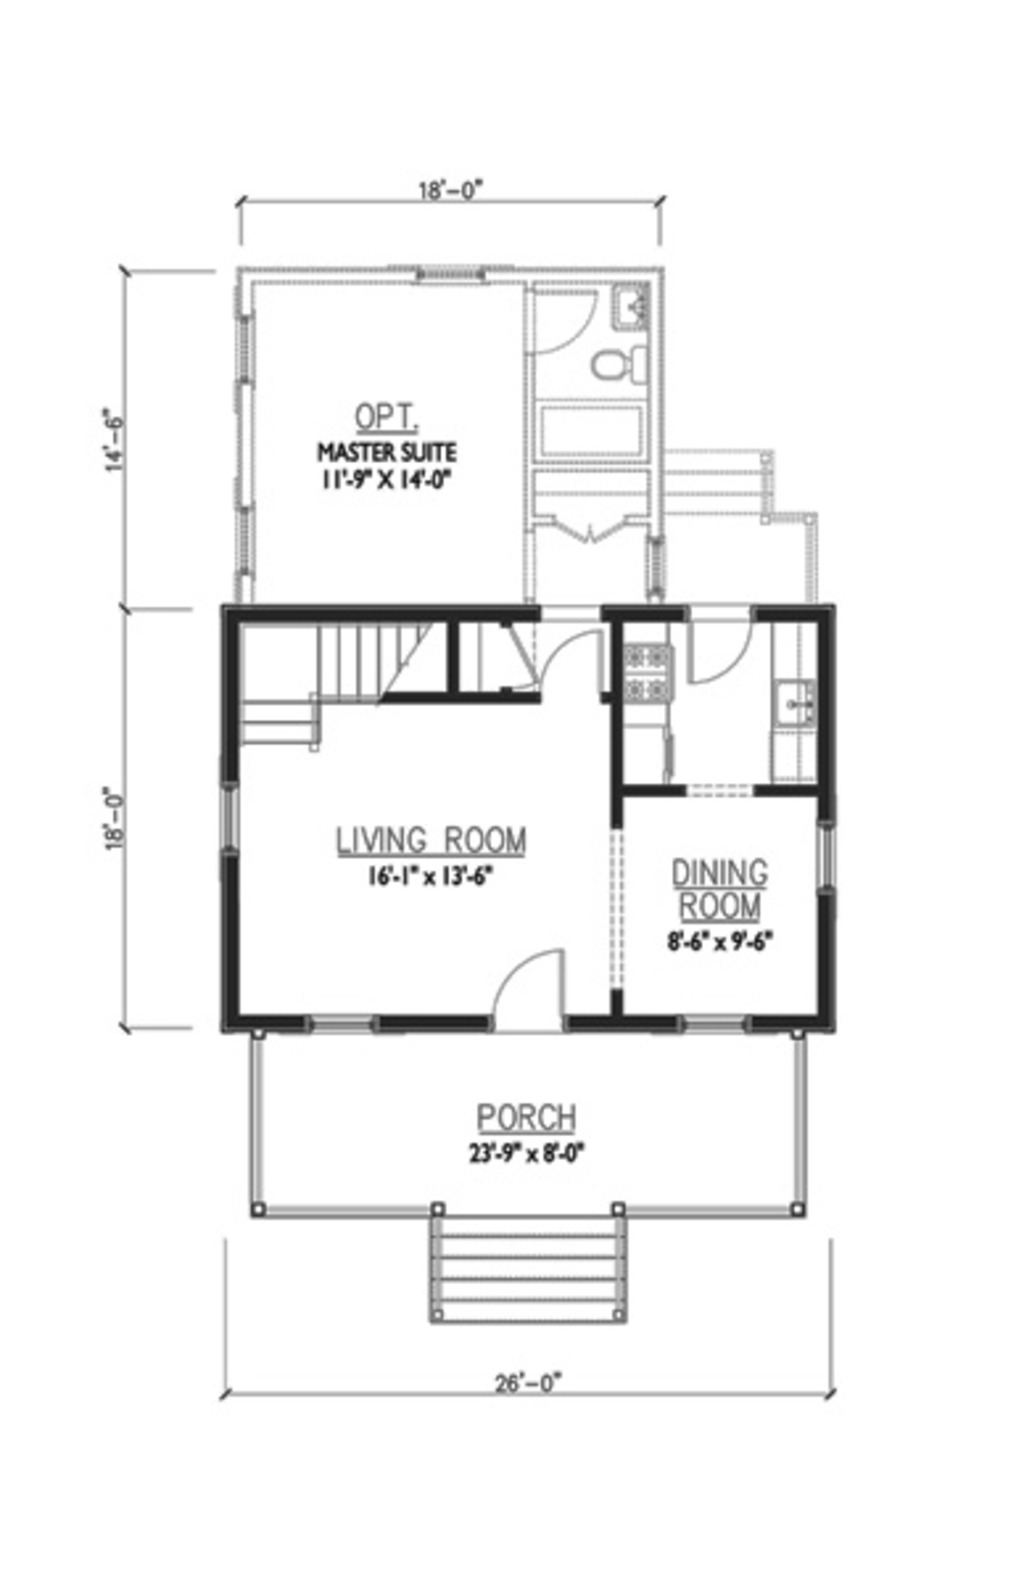door: (487, 949, 580, 1034), (533, 630, 604, 707), (526, 285, 596, 356)
large_sink: (582, 341, 653, 388)
small_sink: (611, 281, 652, 334)
stairs: (236, 622, 457, 747), (420, 1202, 630, 1330), (652, 438, 786, 524)
tub: (533, 393, 648, 471)
windows: (397, 259, 504, 290), (231, 296, 262, 393), (233, 500, 259, 583)
